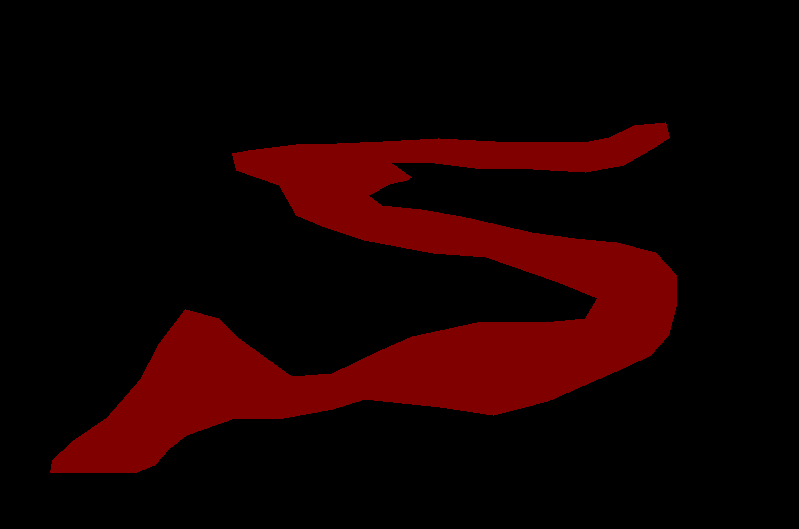fire: (50, 122, 676, 472)
